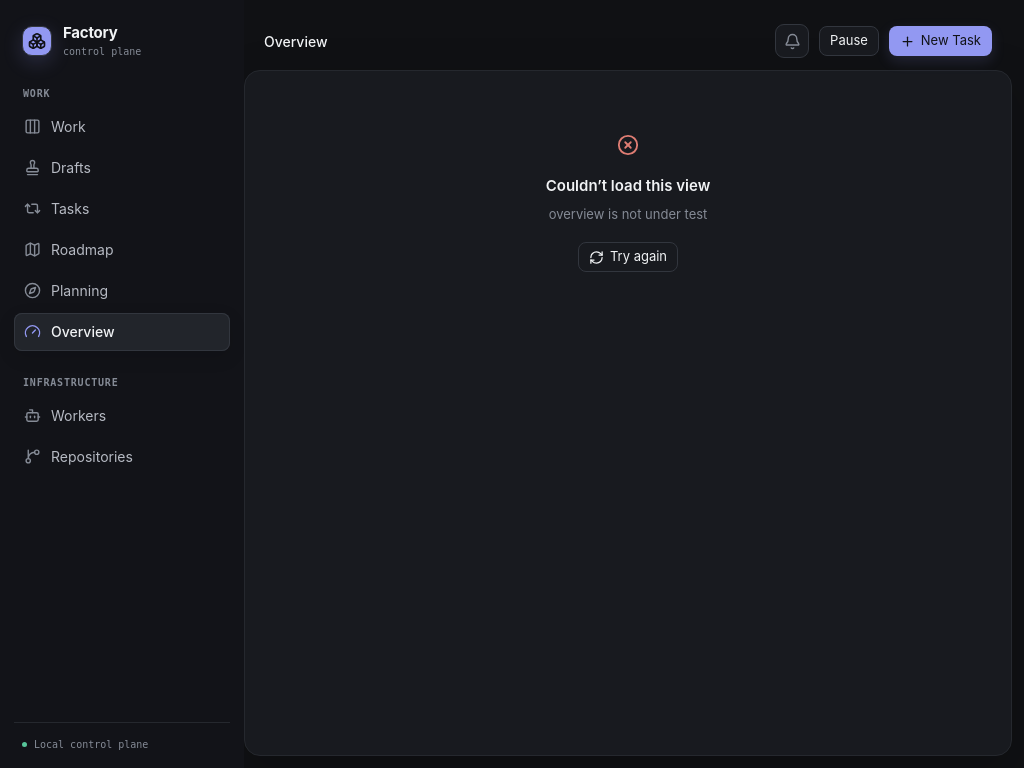
Test: Factory pause control › leaves Factory running when the dialog is cancelled
Click the button "Pause".
click(849, 41)  # box 819,26 -> 879,56
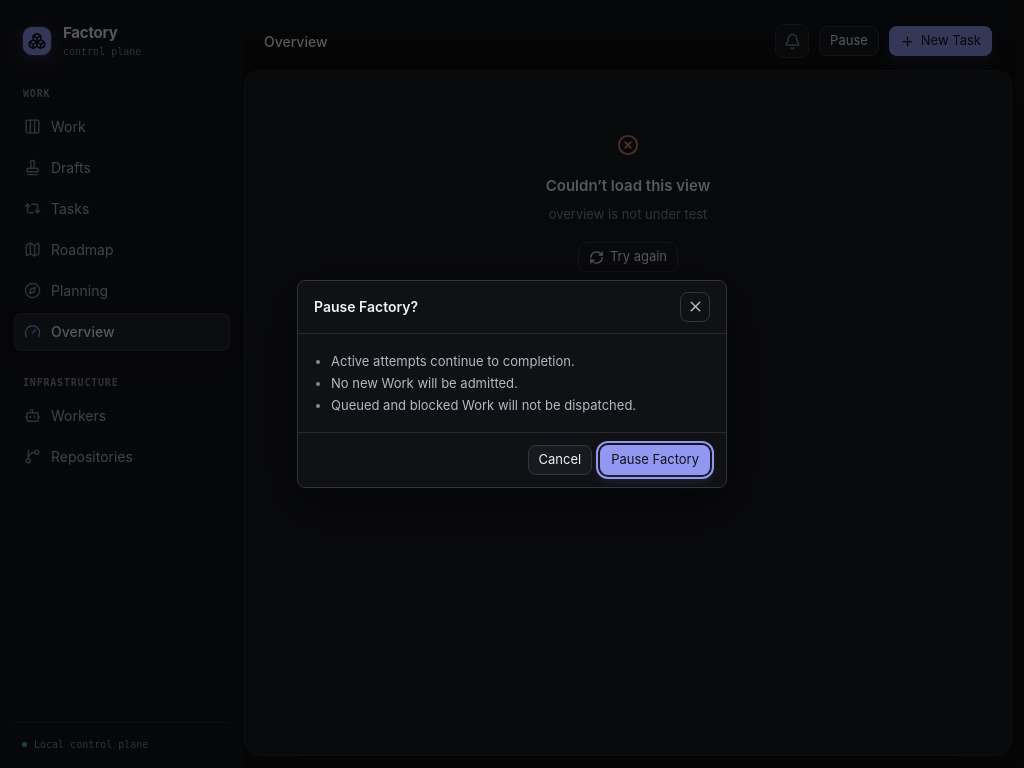
Click the button "Cancel".
click(560, 460)  # box 528,445 -> 592,475
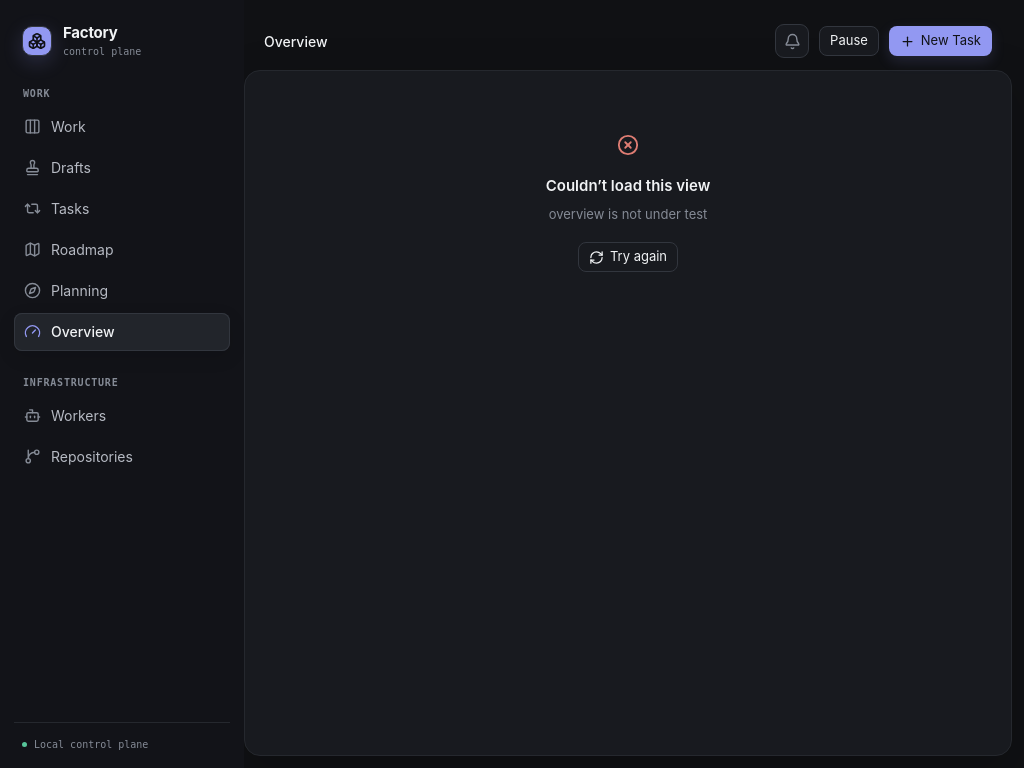
Expected: the dialog is gone
